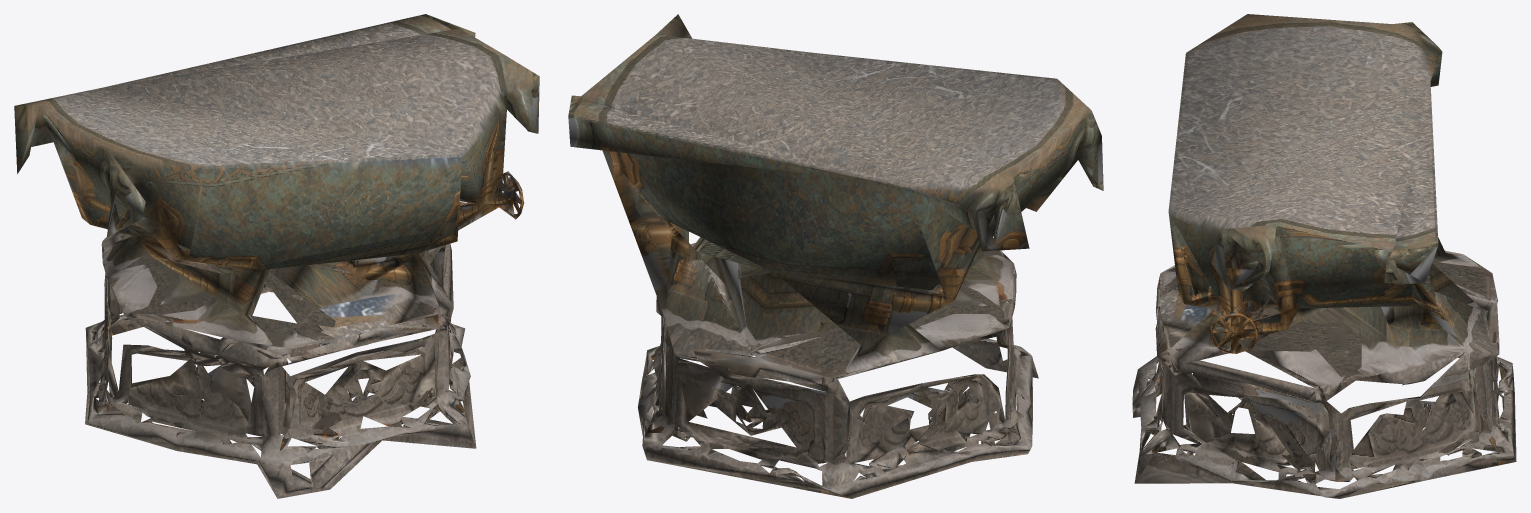
Rendered from PR_Deumeu.fbx.
The picture shows the model from 3 angles, left to right: view 1: azimuth 30°, elevation 25°; view 2: azimuth 150°, elevation 25°; view 3: azimuth 270°, elevation 25°; orthographic projection. The views are drawn at different scales.
Visible parts, largest first — view 1: texture_mapping; view 2: texture_mapping; view 3: texture_mapping.
Boxes of the visible parts, x1=… form: texture_mapping: x1=14, y1=14, x2=539, y2=498; texture_mapping: x1=568, y1=14, x2=1103, y2=498; texture_mapping: x1=1132, y1=14, x2=1516, y2=498.
Bounding box in the file's own units: 0.9734 × 0.732 × 0.6873.
Materials: 1 (1 with a texture image).
